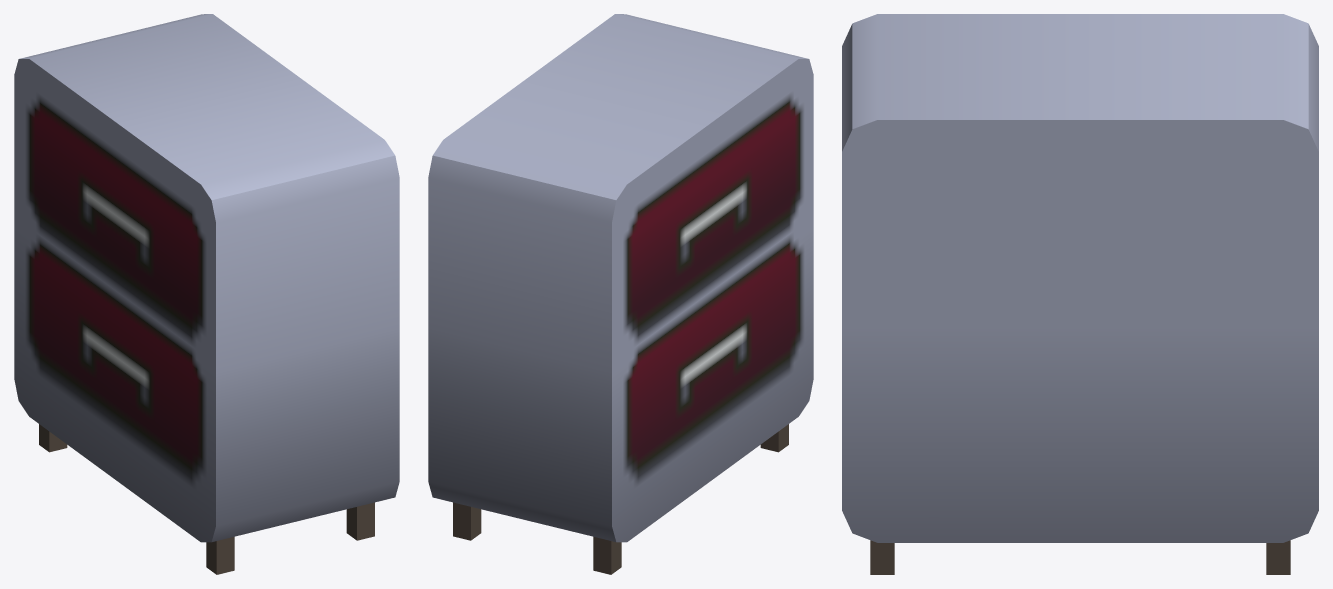
Rendered from chest.fbx.
3 views of the same model, side by side, from view 1: azimuth 30°, elevation 25°; view 2: azimuth 150°, elevation 25°; view 3: azimuth 270°, elevation 25° (orthographic). The views are drawn at different scales.
Parts seen in each view (by area): view 1: Куб.164; view 2: Куб.164; view 3: Куб.164.
Boxes of the visible parts, x1,y1,x2,y2 form: Куб.164: (14, 14, 399, 574); Куб.164: (428, 14, 813, 574); Куб.164: (842, 14, 1318, 574).
Bounding box in the file's own units: 57.17 × 116 × 109.
